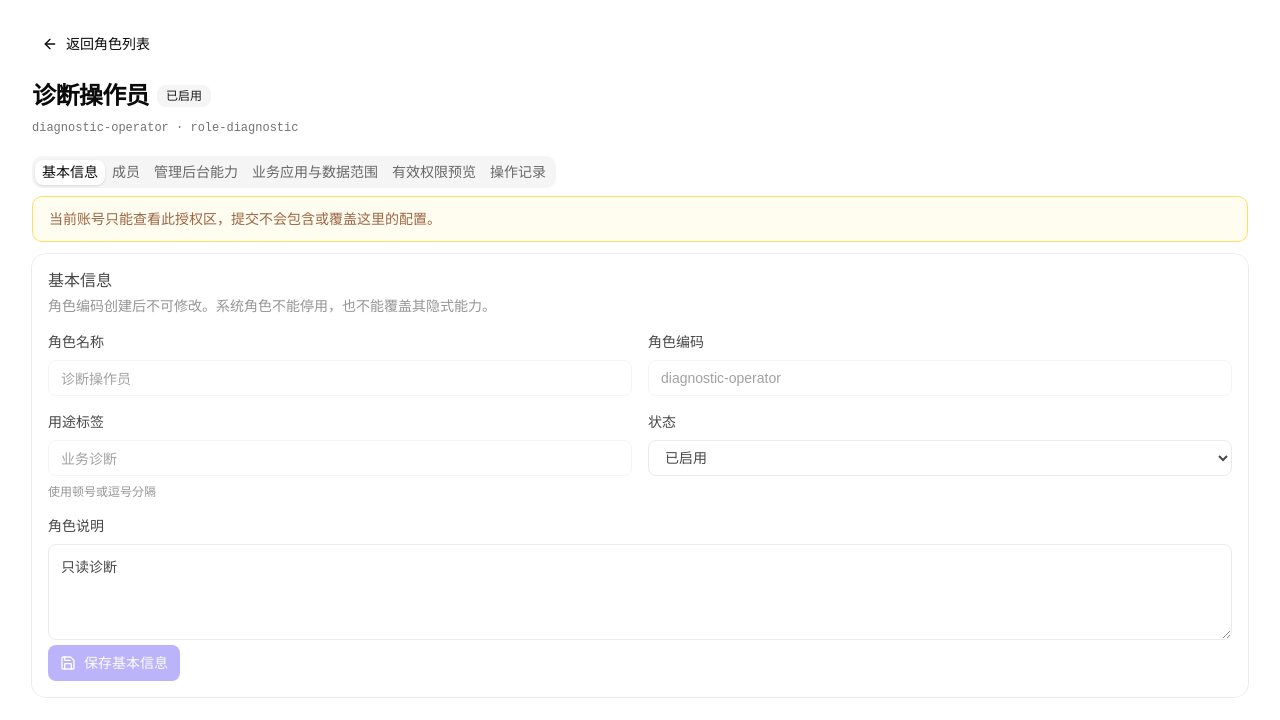
Test: 角色授权中心 › 权限模拟安全展示 application_tool_safety_ceiling 决策
Expected: the heading "诊断操作员" is shown, [32, 80, 149, 112]
Click the tab "有效权限预览".
click(434, 172)  # box [385, 160, 483, 184]
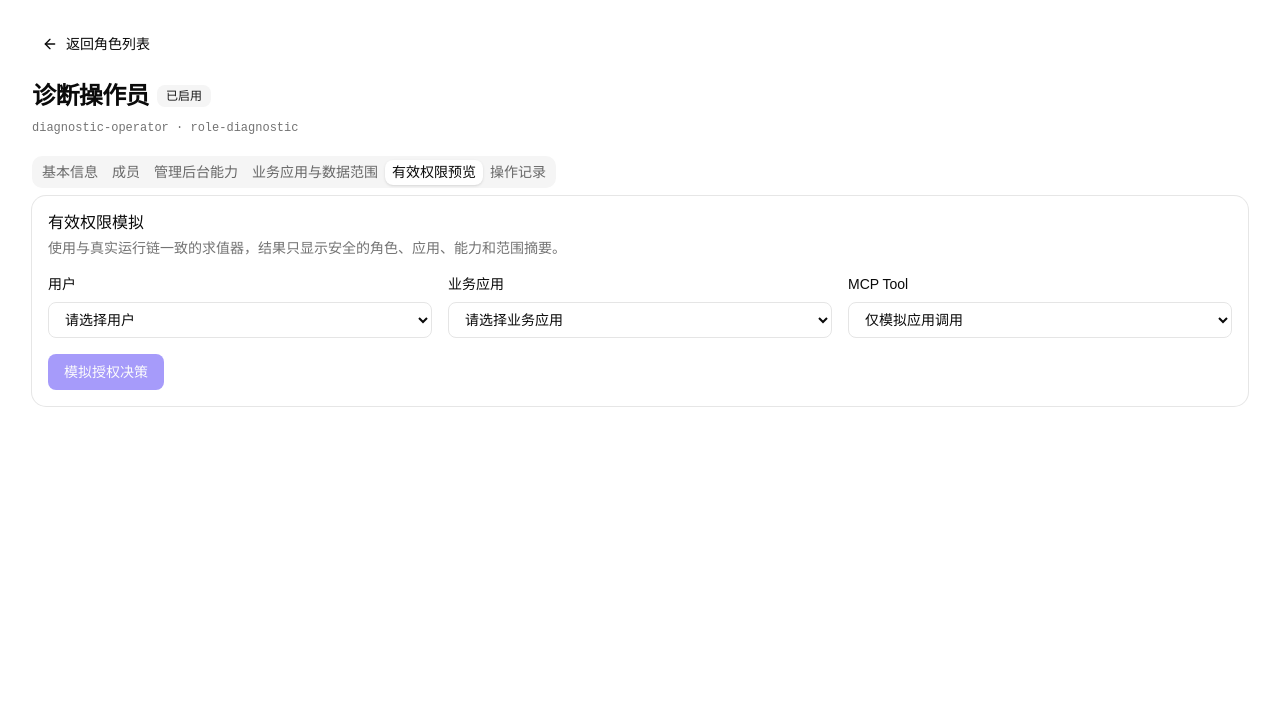
Select "测试用户（test-user）" in the dropdown labelled "用户" at (240, 320), box [48, 302, 432, 338]
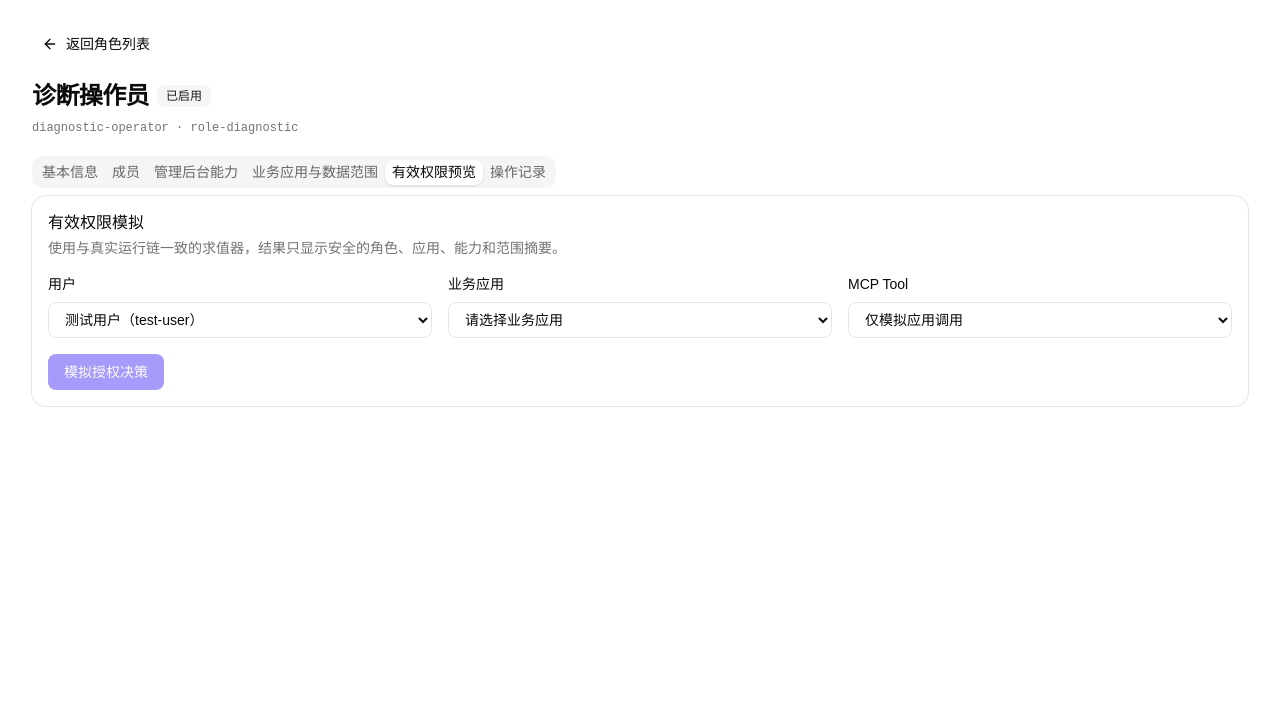
Select "诊断应用" in the dropdown labelled "业务应用" at (640, 320), box [448, 302, 832, 338]
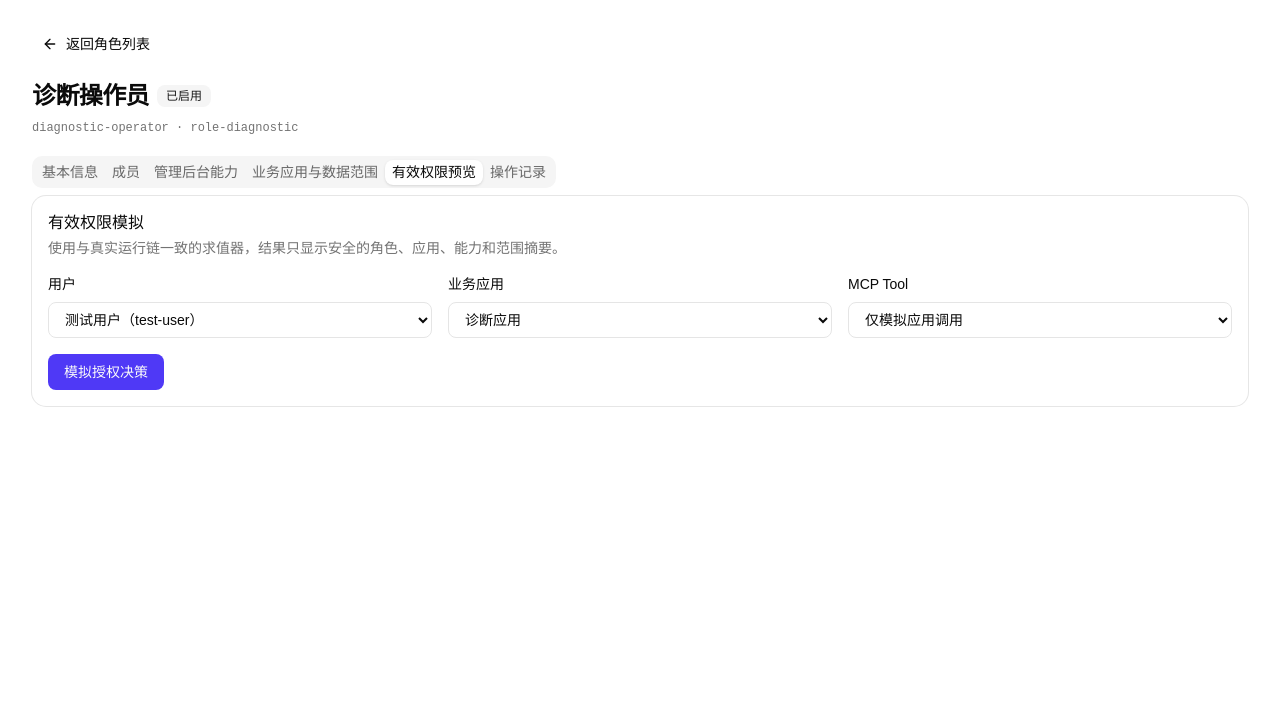
Click the button "模拟授权决策".
click(106, 372)  # box [48, 354, 164, 390]
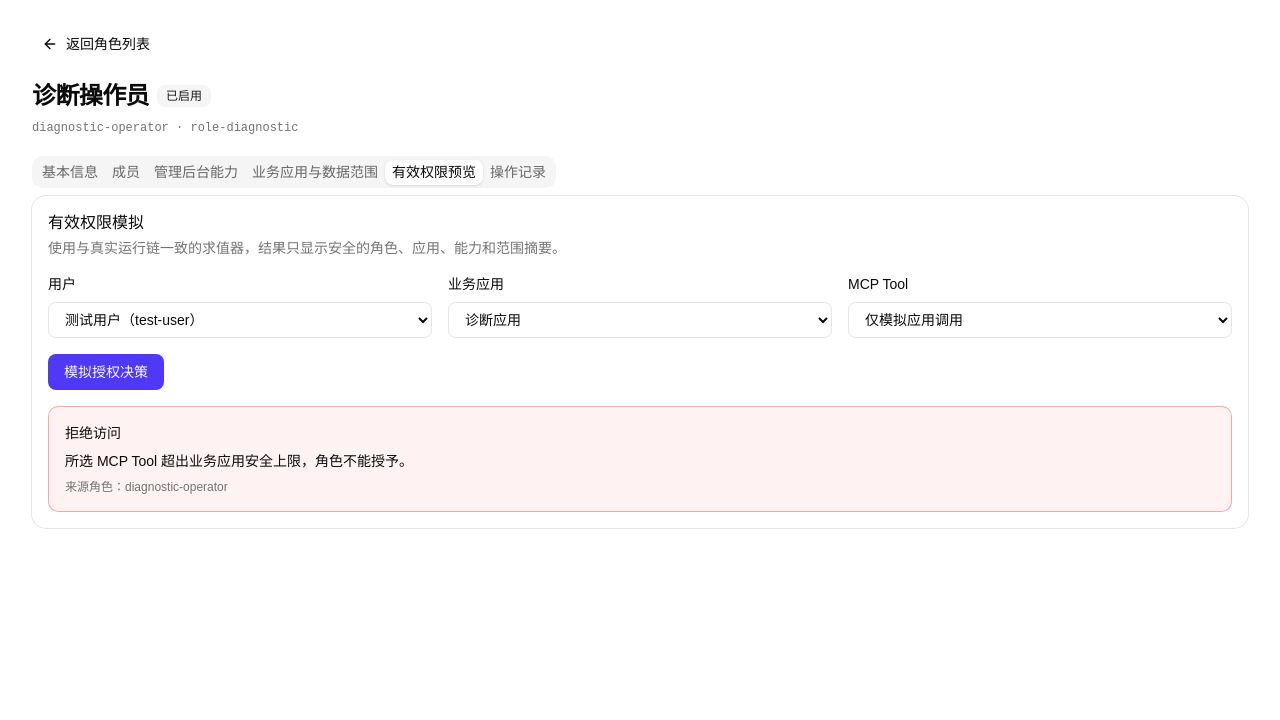
Now the text "所选 MCP Tool 超出业务应用安全上限，角色不能授予。" is shown, box [65, 453, 413, 469]
